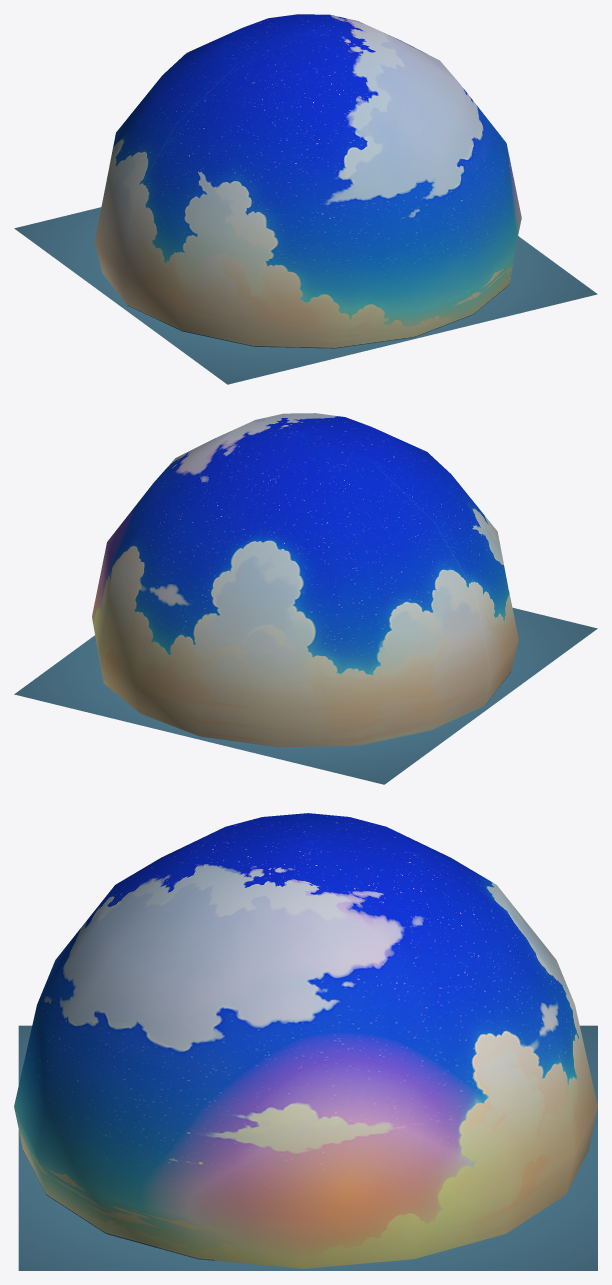
Rendered from scene_updated.glb.
3 views of the same model, one above another, from view 1: azimuth 30°, elevation 25°; view 2: azimuth 150°, elevation 25°; view 3: azimuth 270°, elevation 25° (orthographic). The views are drawn at different scales.
Parts seen in each view (by area): view 1: model_5; view 2: model_5; view 3: model_5.
Boxes of the visible parts, x1,y1,x2,y2 form: model_5: [14, 14, 597, 384]; model_5: [14, 413, 597, 784]; model_5: [14, 813, 597, 1270].
Bounding box in the file's own units: 3462 × 2014 × 3457.
2 materials, 2 textured.
